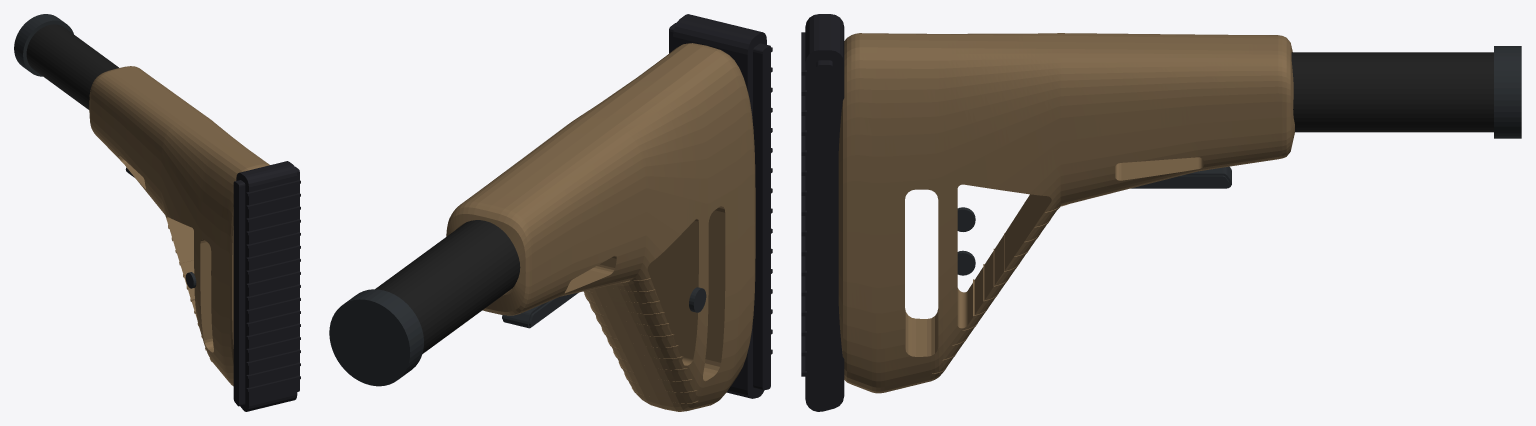
The model's file is coronha_leve_ar_tan.glb.
3 renders of one model, left to right at view 1: azimuth 30°, elevation 25°; view 2: azimuth 150°, elevation 25°; view 3: azimuth 270°, elevation 25°, orthographic. The views are drawn at different scales.
Visible parts, largest first — view 1: coronha_leve_ar_tan_soleira_polimero_tan, coronha_leve_ar_tan_soleira_borracha, coronha_leve_ar_tan_aluminio_preto, coronha_leve_ar_tan_aco_oxidado; view 2: coronha_leve_ar_tan_soleira_polimero_tan, coronha_leve_ar_tan_soleira_borracha, coronha_leve_ar_tan_aluminio_preto, coronha_leve_ar_tan_aco_oxidado, coronha_leve_ar_tan_soleira_aco_oxidado; view 3: coronha_leve_ar_tan_soleira_polimero_tan, coronha_leve_ar_tan_aluminio_preto, coronha_leve_ar_tan_soleira_borracha, coronha_leve_ar_tan_aco_oxidado, coronha_leve_ar_tan_soleira_aco_oxidado.
Boxes of the visible parts, <box> form: coronha_leve_ar_tan_soleira_polimero_tan: <box>89,66,269,386</box>; coronha_leve_ar_tan_soleira_borracha: <box>233,161,300,411</box>; coronha_leve_ar_tan_aluminio_preto: <box>26,24,118,109</box>; coronha_leve_ar_tan_aco_oxidado: <box>14,14,73,76</box>; coronha_leve_ar_tan_soleira_polimero_tan: <box>446,43,755,411</box>; coronha_leve_ar_tan_soleira_borracha: <box>669,14,772,398</box>; coronha_leve_ar_tan_aluminio_preto: <box>375,220,520,353</box>; coronha_leve_ar_tan_aco_oxidado: <box>329,289,423,386</box>; coronha_leve_ar_tan_soleira_aco_oxidado: <box>502,287,706,328</box>; coronha_leve_ar_tan_soleira_polimero_tan: <box>838,33,1294,393</box>; coronha_leve_ar_tan_aluminio_preto: <box>1291,52,1493,132</box>; coronha_leve_ar_tan_soleira_borracha: <box>801,14,844,411</box>; coronha_leve_ar_tan_aco_oxidado: <box>1494,46,1521,138</box>; coronha_leve_ar_tan_soleira_aco_oxidado: <box>957,166,1231,275</box>.
Bounding box in the file's own units: 0.0401 × 0.1444 × 0.2605.
